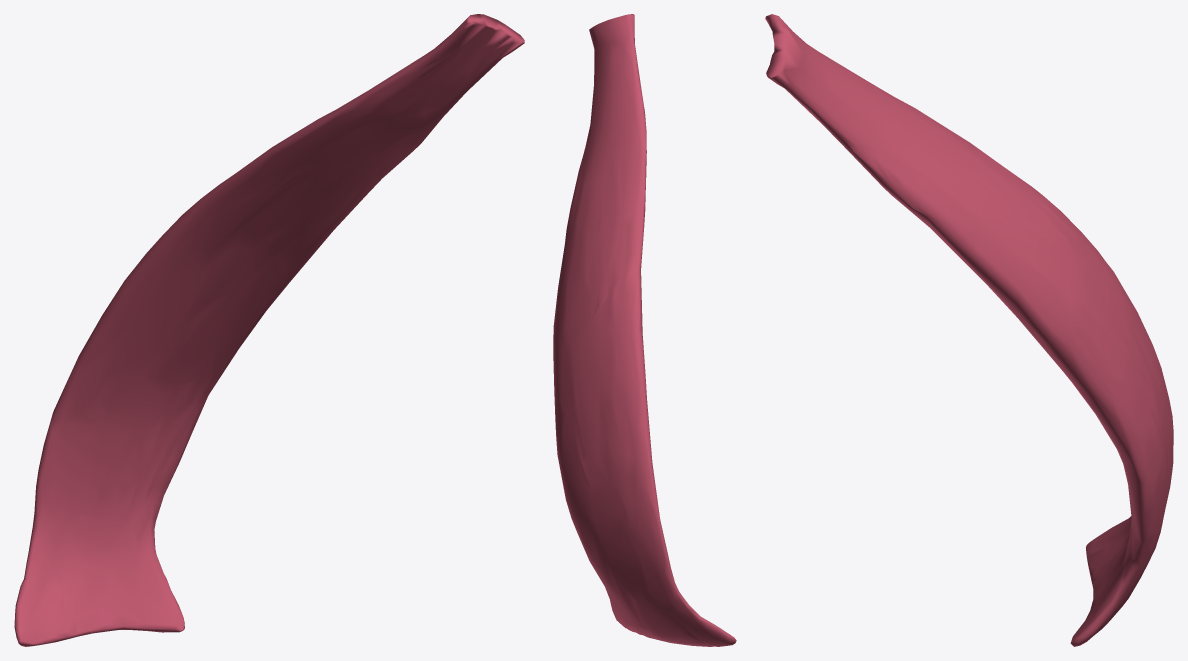
3 renders of one model, left to right at view 1: azimuth 30°, elevation 25°; view 2: azimuth 150°, elevation 25°; view 3: azimuth 270°, elevation 25°, orthographic. The views are drawn at different scales.
Parts seen in each view (by area): view 1: 右侧下直肌; view 2: 右侧下直肌; view 3: 右侧下直肌.
Part boxes in pixels (x1,y1,x2,y2): 右侧下直肌: [14, 14, 524, 646]; 右侧下直肌: [553, 14, 736, 646]; 右侧下直肌: [765, 14, 1173, 646].
Size of the model in its own units: 0.0327 by 0.0611 by 0.0321.
